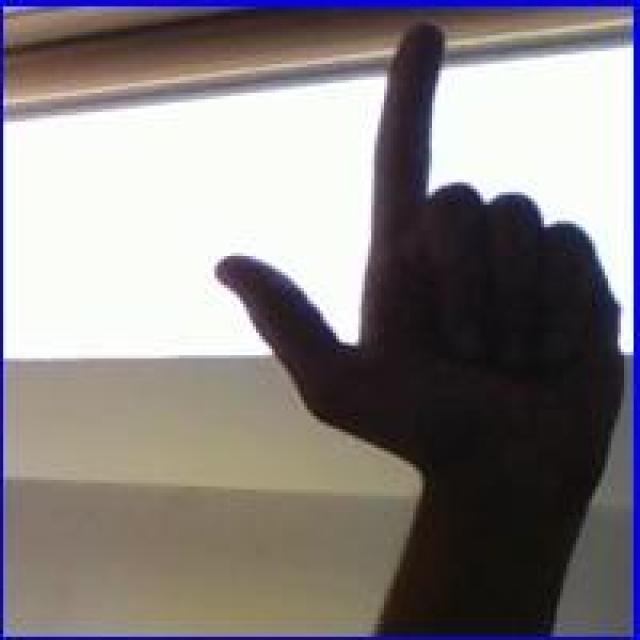L: (213, 10, 629, 496)
